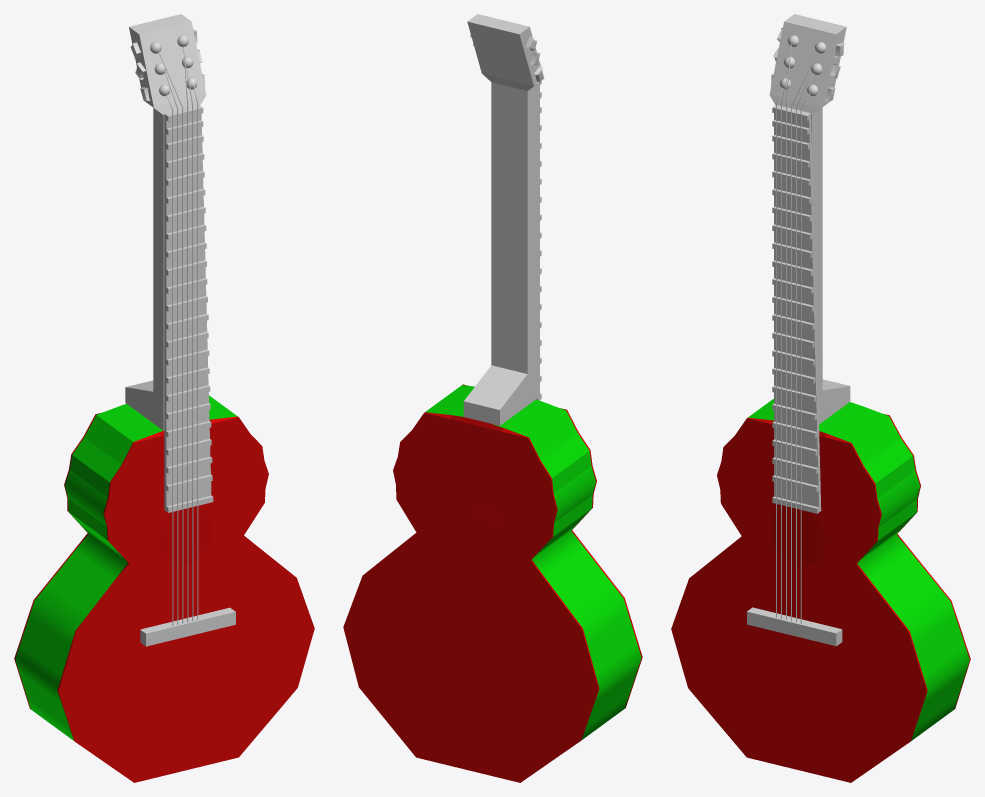
3 views of the same model, side by side, from view 1: azimuth 30°, elevation 25°; view 2: azimuth 150°, elevation 25°; view 3: azimuth 330°, elevation 25° (orthographic).
Parts seen in each view (by area): view 1: pCube3, pCube4, pCube5, pCube30, pCylinder24, pCylinder23, pCylinder25, pCylinder22, pCylinder26, pCylinder21; view 2: pCube3, pCube5, pCube4; view 3: pCube3, pCube4, pCube5, pCube30, pCylinder26, pCylinder23, pCylinder24, pCylinder22, pCylinder25, pCylinder21.
Part boxes in pixels (left/top/right/bottom): pCube3: left=14, top=395, right=314, bottom=782; pCube4: left=164, top=105, right=211, bottom=511; pCube5: left=125, top=14, right=206, bottom=430; pCube30: left=140, top=607, right=235, bottom=646; pCylinder24: left=183, top=46, right=188, bottom=622; pCylinder23: left=158, top=50, right=183, bottom=623; pCylinder25: left=186, top=67, right=193, bottom=620; pCylinder22: left=165, top=71, right=178, bottom=624; pCylinder26: left=193, top=86, right=198, bottom=619; pCylinder21: left=166, top=94, right=173, bottom=625; pCube3: left=343, top=384, right=642, bottom=782; pCube5: left=463, top=14, right=544, bottom=425; pCube4: left=536, top=82, right=539, bottom=400; pCube3: left=671, top=398, right=970, bottom=782; pCube4: left=774, top=105, right=821, bottom=512; pCube5: left=769, top=14, right=850, bottom=424; pCube30: left=747, top=607, right=842, bottom=646; pCylinder26: left=800, top=92, right=809, bottom=623; pCylinder23: left=786, top=44, right=791, bottom=619; pCylinder24: left=791, top=52, right=817, bottom=621; pCylinder22: left=781, top=66, right=790, bottom=618; pCylinder25: left=796, top=73, right=812, bottom=622; pCylinder21: left=776, top=87, right=782, bottom=617.
Size of the model in its own units: 0.3835 by 1.05 by 0.1367.
